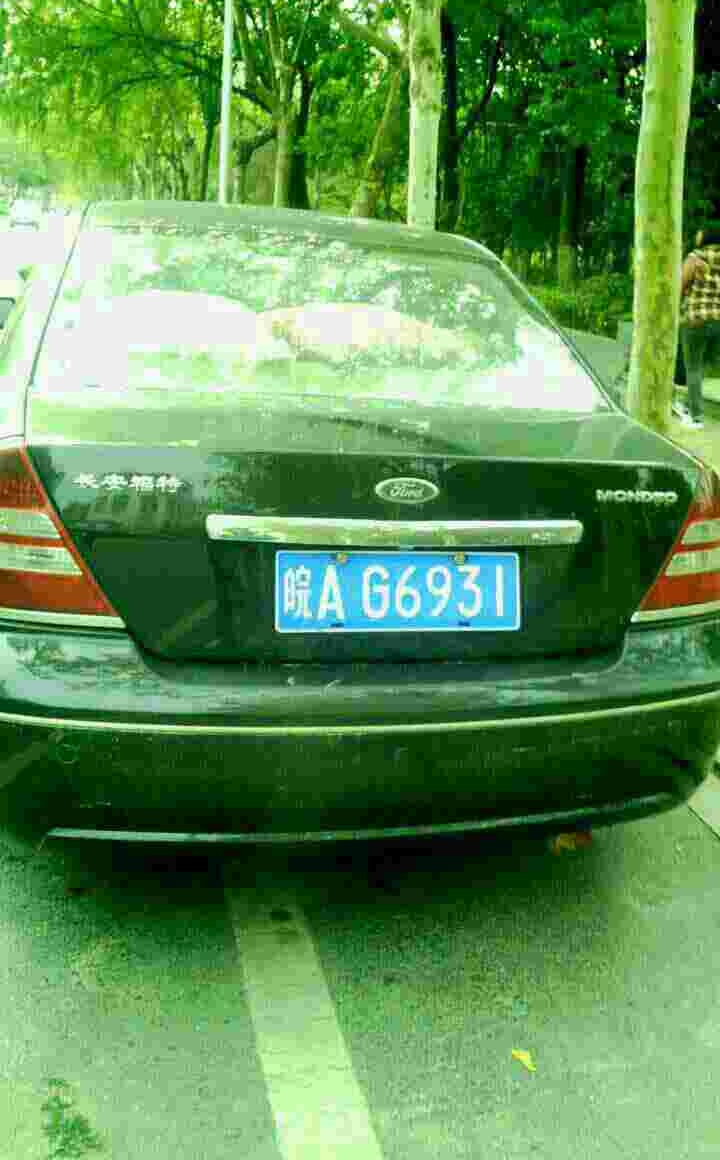license_plate: (284, 548, 519, 635)
